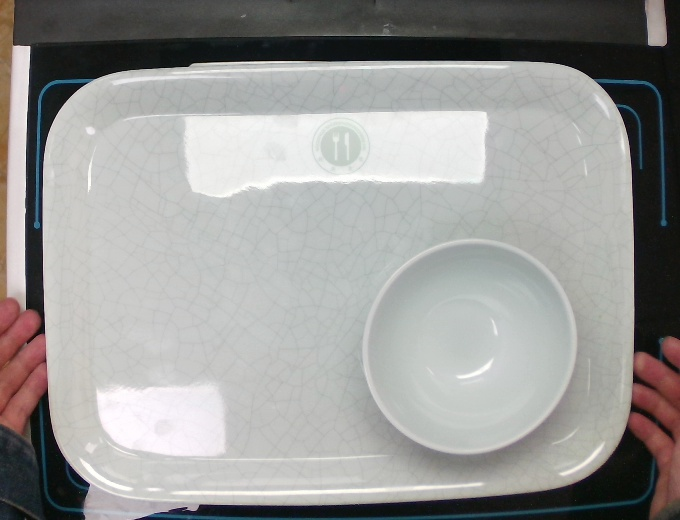JYsf-Fan_Wan: (356, 232, 583, 461)
